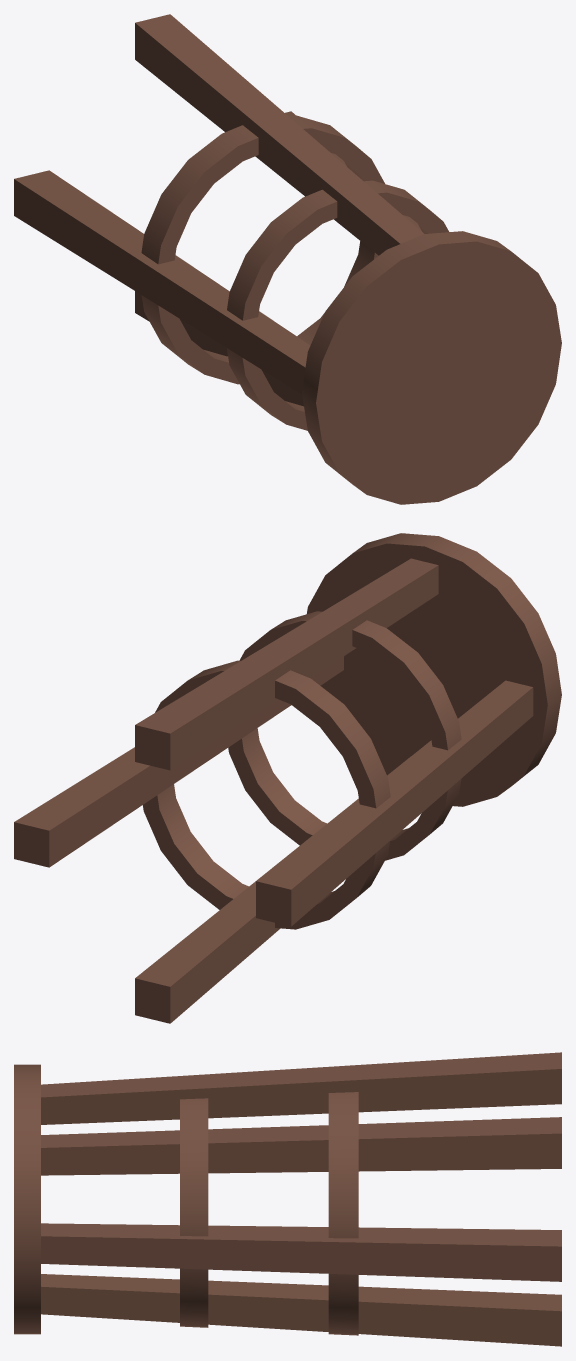
The model's file is 8c3b1e81-3d5f-4e7d-acd1-deffee372364.glb.
3 views of the same model, one above another, from view 1: azimuth 30°, elevation 25°; view 2: azimuth 150°, elevation 25°; view 3: azimuth 270°, elevation 25° (orthographic). The views are drawn at different scales.
Visible parts, largest first — view 1: pCube61; view 2: pCube61; view 3: pCube61.
Boxes of the visible parts, x1,y1,x2,y2 form: pCube61: [14, 14, 561, 504]; pCube61: [14, 533, 561, 1023]; pCube61: [14, 1052, 561, 1346].
Bounding box in the file's own units: 151 × 151 × 271.
